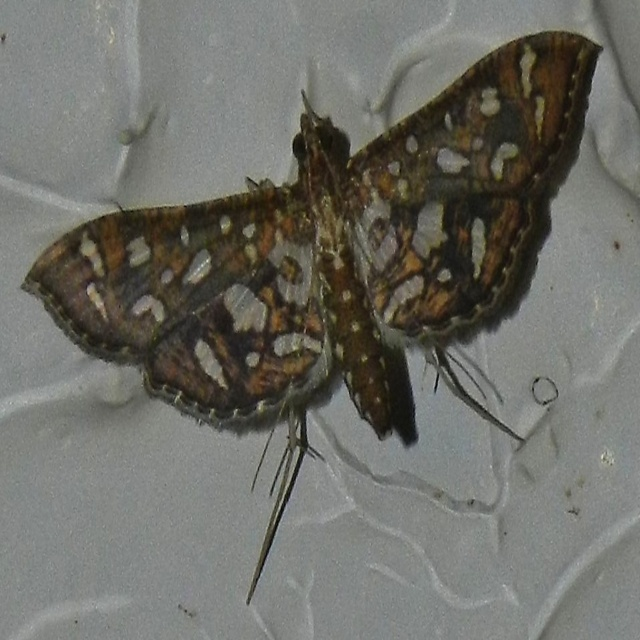Butterfly: (29, 18, 597, 615)
